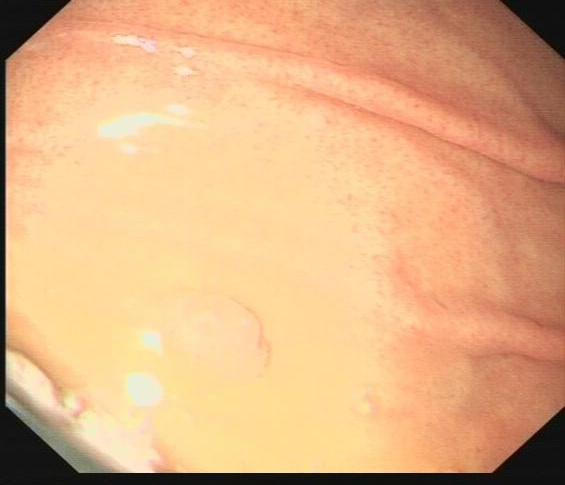Polyp: (159, 289, 273, 382)
